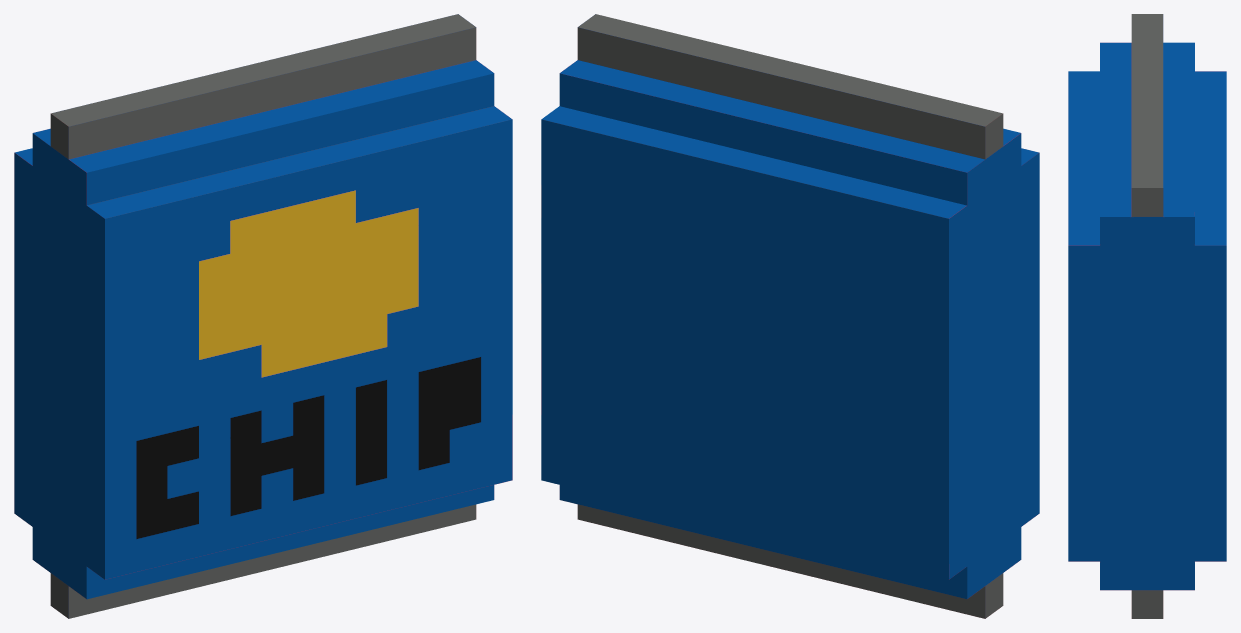
The model's file is Escenario 3 chocorramosurvivor-4.obj.
3 renders of one model, left to right at view 1: azimuth 30°, elevation 25°; view 2: azimuth 150°, elevation 25°; view 3: azimuth 270°, elevation 25°, orthographic. The views are drawn at different scales.
Parts seen in each view (by area): view 1: Escenario_3_chocorramosurvivor-4; view 2: Escenario_3_chocorramosurvivor-4; view 3: Escenario_3_chocorramosurvivor-4.
Part boxes in pixels (x1,y1,x2,y2): Escenario_3_chocorramosurvivor-4: (14,14,512,618); Escenario_3_chocorramosurvivor-4: (541,14,1039,618); Escenario_3_chocorramosurvivor-4: (1068,14,1226,618).
Size of the model in its own units: 1.3 by 1.5 by 0.5.
1 material, 1 textured.
